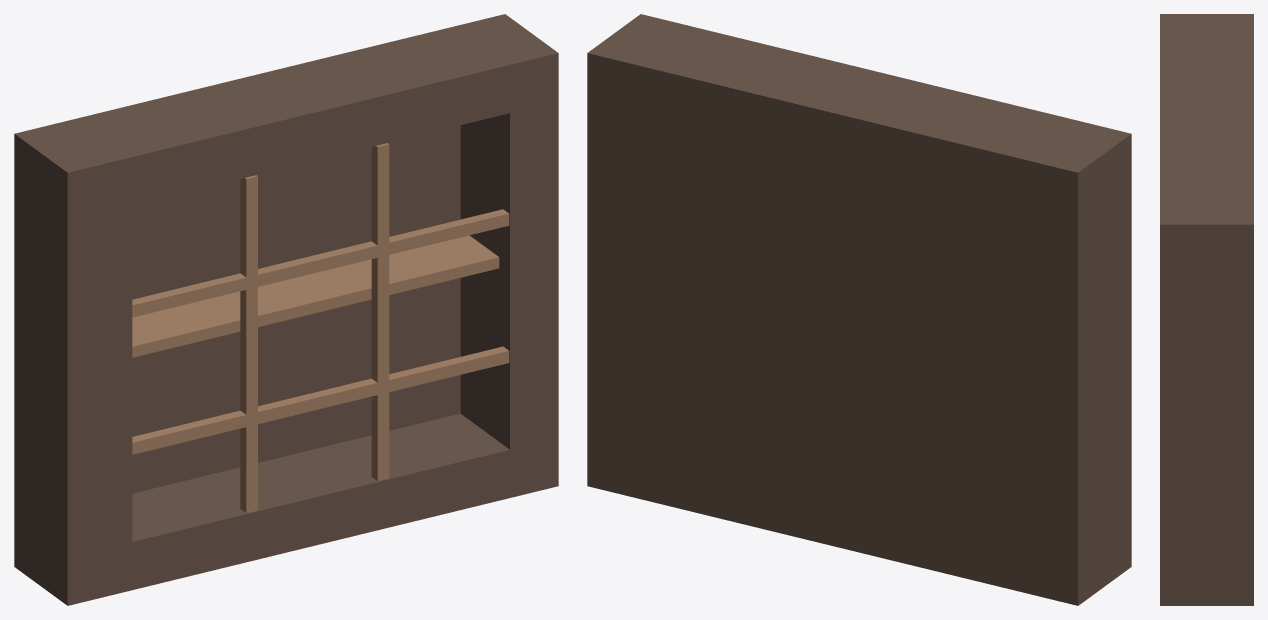
File: Cocina_Alacena_01.fbx
3 renders of one model, left to right at view 1: azimuth 30°, elevation 25°; view 2: azimuth 150°, elevation 25°; view 3: azimuth 270°, elevation 25°, orthographic. The views are drawn at different scales.
Parts seen in each view (by area): view 1: alacena; view 2: alacena; view 3: alacena.
Part boxes in pixels (left/top/right/bottom): alacena: left=14, top=14, right=558, bottom=605; alacena: left=587, top=14, right=1131, bottom=605; alacena: left=1160, top=14, right=1253, bottom=605.
Size of the model in its own units: 95.71 by 80.71 by 18.03.
2 materials, 2 textured.
